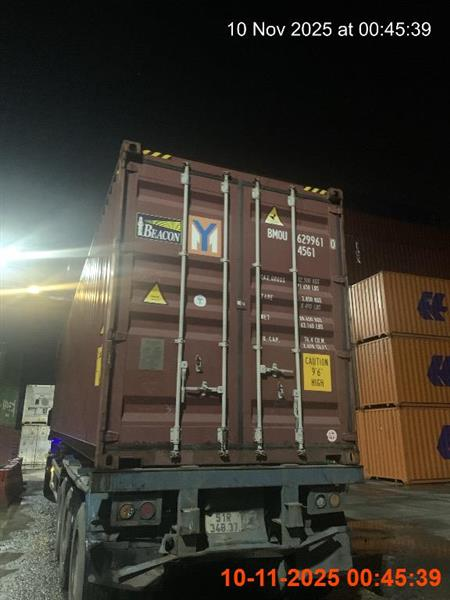broken: (41, 140, 363, 599)
